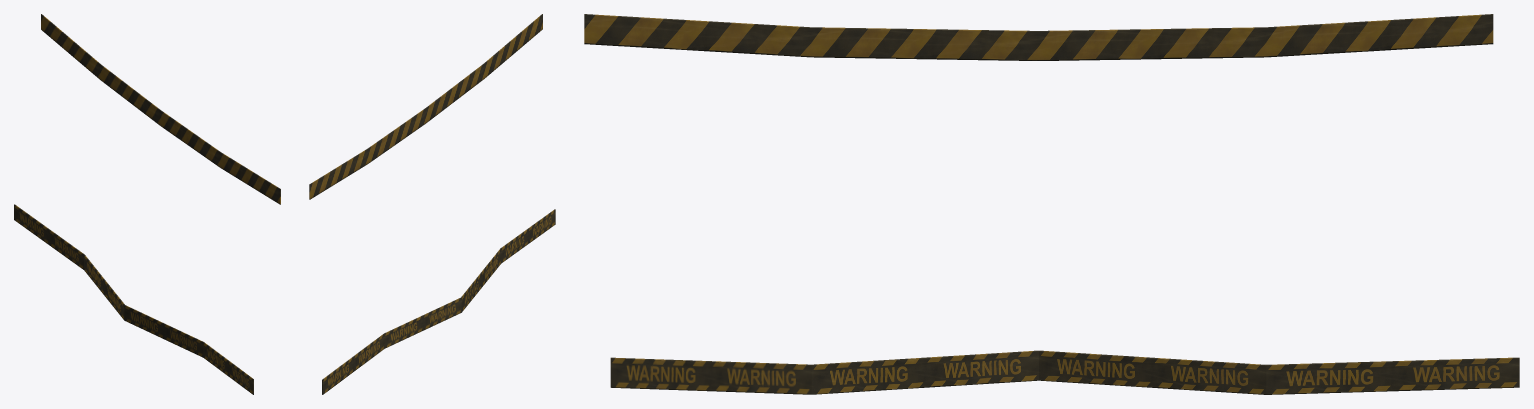
3 views of the same model, side by side, from view 1: azimuth 30°, elevation 25°; view 2: azimuth 150°, elevation 25°; view 3: azimuth 270°, elevation 25° (orthographic). The views are drawn at different scales.
Visible parts, largest first — view 1: Warning, Stripes; view 2: Warning, Stripes; view 3: Warning, Stripes.
Part boxes in pixels (x1=…): Warning: x1=14, y1=204, x2=253, y2=394; Stripes: x1=41, y1=14, x2=280, y2=204; Warning: x1=322, y1=209, x2=555, y2=394; Stripes: x1=309, y1=14, x2=542, y2=199; Warning: x1=610, y1=350, x2=1519, y2=394; Stripes: x1=584, y1=14, x2=1493, y2=60.
Bounding box in the file's own units: 1.25 × 6.79 × 14.4.
1 material, 1 textured.
